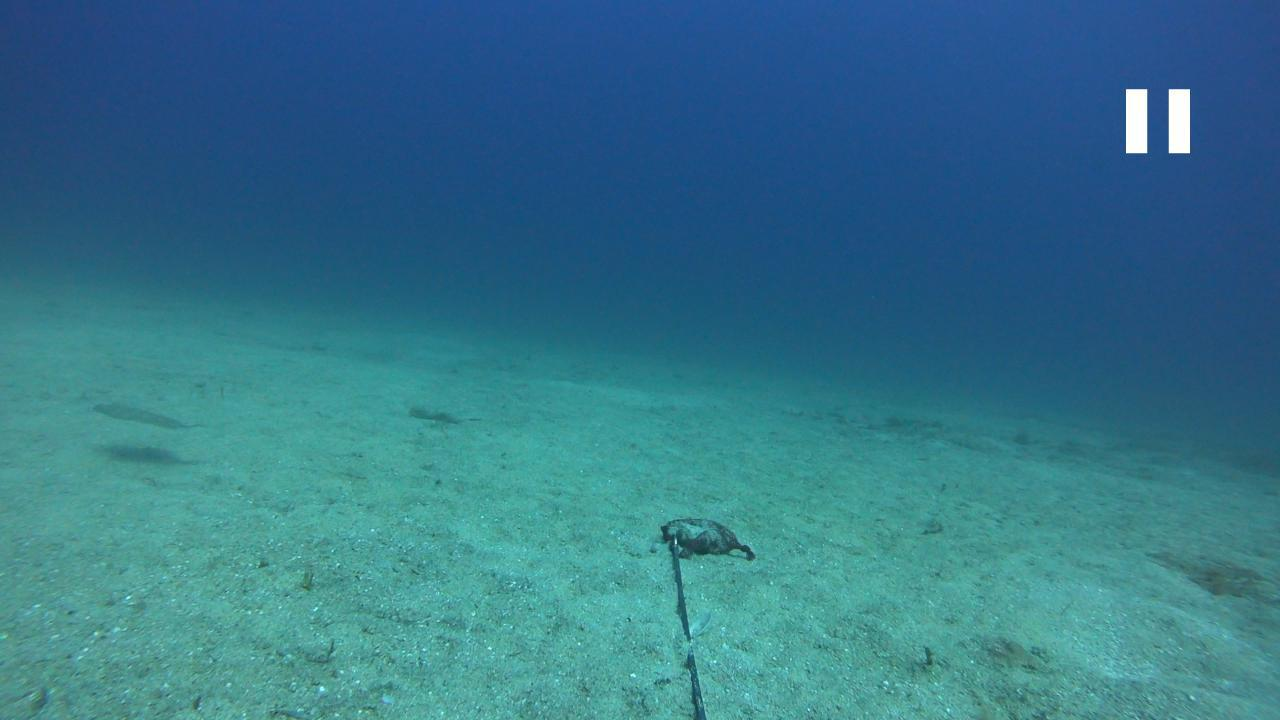bothus: (88, 396, 209, 437)
